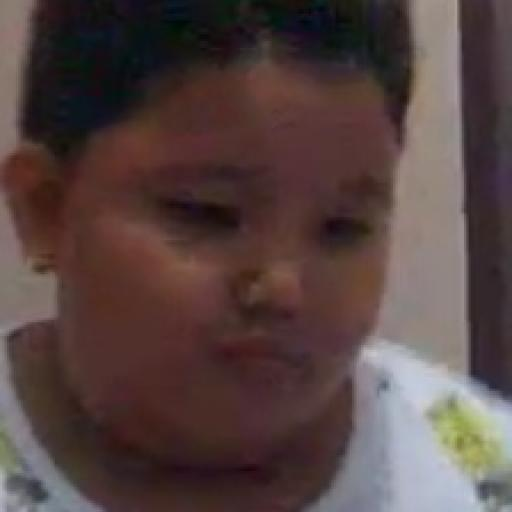Autism: (0, 0, 446, 491)
